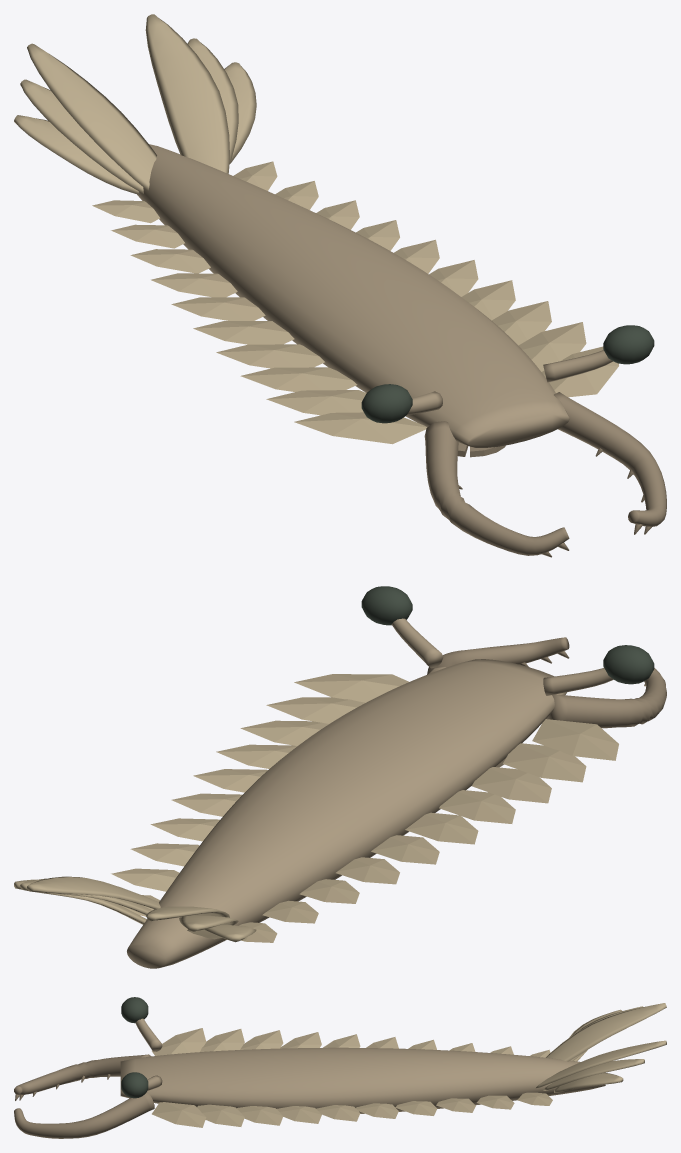
The model's file is anomalocaris.glb.
3 views of the same model, one above another, from view 1: azimuth 30°, elevation 25°; view 2: azimuth 150°, elevation 25°; view 3: azimuth 270°, elevation 25° (orthographic). The views are drawn at different scales.
Visible parts, largest first — view 1: continuous-tapered-flexible-swimming-body-no-broad-head-shie, overlapping-lateral-swimming-flaps, three-pairs-of-upturned-tail-fan-blades, paired-curved-frontal-appendages-and-economic-inner-spines, naturally-seated-paired-eyestalks-and-eyes; view 2: continuous-tapered-flexible-swimming-body-no-broad-head-shie, overlapping-lateral-swimming-flaps, paired-curved-frontal-appendages-and-economic-inner-spines, naturally-seated-paired-eyestalks-and-eyes, three-pairs-of-upturned-tail-fan-blades; view 3: continuous-tapered-flexible-swimming-body-no-broad-head-shie, overlapping-lateral-swimming-flaps, three-pairs-of-upturned-tail-fan-blades, paired-curved-frontal-appendages-and-economic-inner-spines, naturally-seated-paired-eyestalks-and-eyes.
Part boxes in pixels (x1,y1,x2,y2): continuous-tapered-flexible-swimming-body-no-broad-head-shie: [137, 144, 569, 447]; overlapping-lateral-swimming-flaps: [92, 161, 618, 444]; three-pairs-of-upturned-tail-fan-blades: [14, 14, 256, 194]; paired-curved-frontal-appendages-and-economic-inner-spines: [424, 392, 666, 557]; naturally-seated-paired-eyestalks-and-eyes: [361, 325, 654, 423]; continuous-tapered-flexible-swimming-body-no-broad-head-shie: [127, 659, 566, 968]; overlapping-lateral-swimming-flaps: [111, 674, 618, 942]; paired-curved-frontal-appendages-and-economic-inner-spines: [427, 637, 666, 728]; naturally-seated-paired-eyestalks-and-eyes: [361, 586, 654, 695]; three-pairs-of-upturned-tail-fan-blades: [14, 876, 256, 942]; continuous-tapered-flexible-swimming-body-no-broad-head-shie: [120, 1047, 605, 1113]; overlapping-lateral-swimming-flaps: [152, 1028, 552, 1127]; three-pairs-of-upturned-tail-fan-blades: [536, 1003, 666, 1092]; paired-curved-frontal-appendages-and-economic-inner-spines: [14, 1054, 154, 1138]; naturally-seated-paired-eyestalks-and-eyes: [121, 997, 162, 1098].
Bounding box in the file's own units: 0.1466 × 0.0637 × 0.404.
